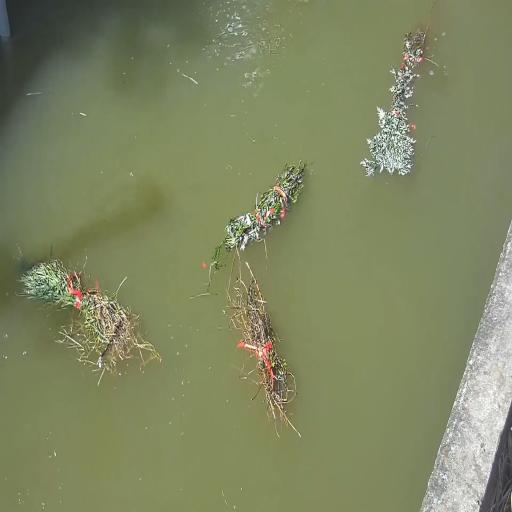twig: (15, 244, 162, 386), (228, 250, 300, 436), (361, 0, 437, 176), (210, 161, 306, 282)
